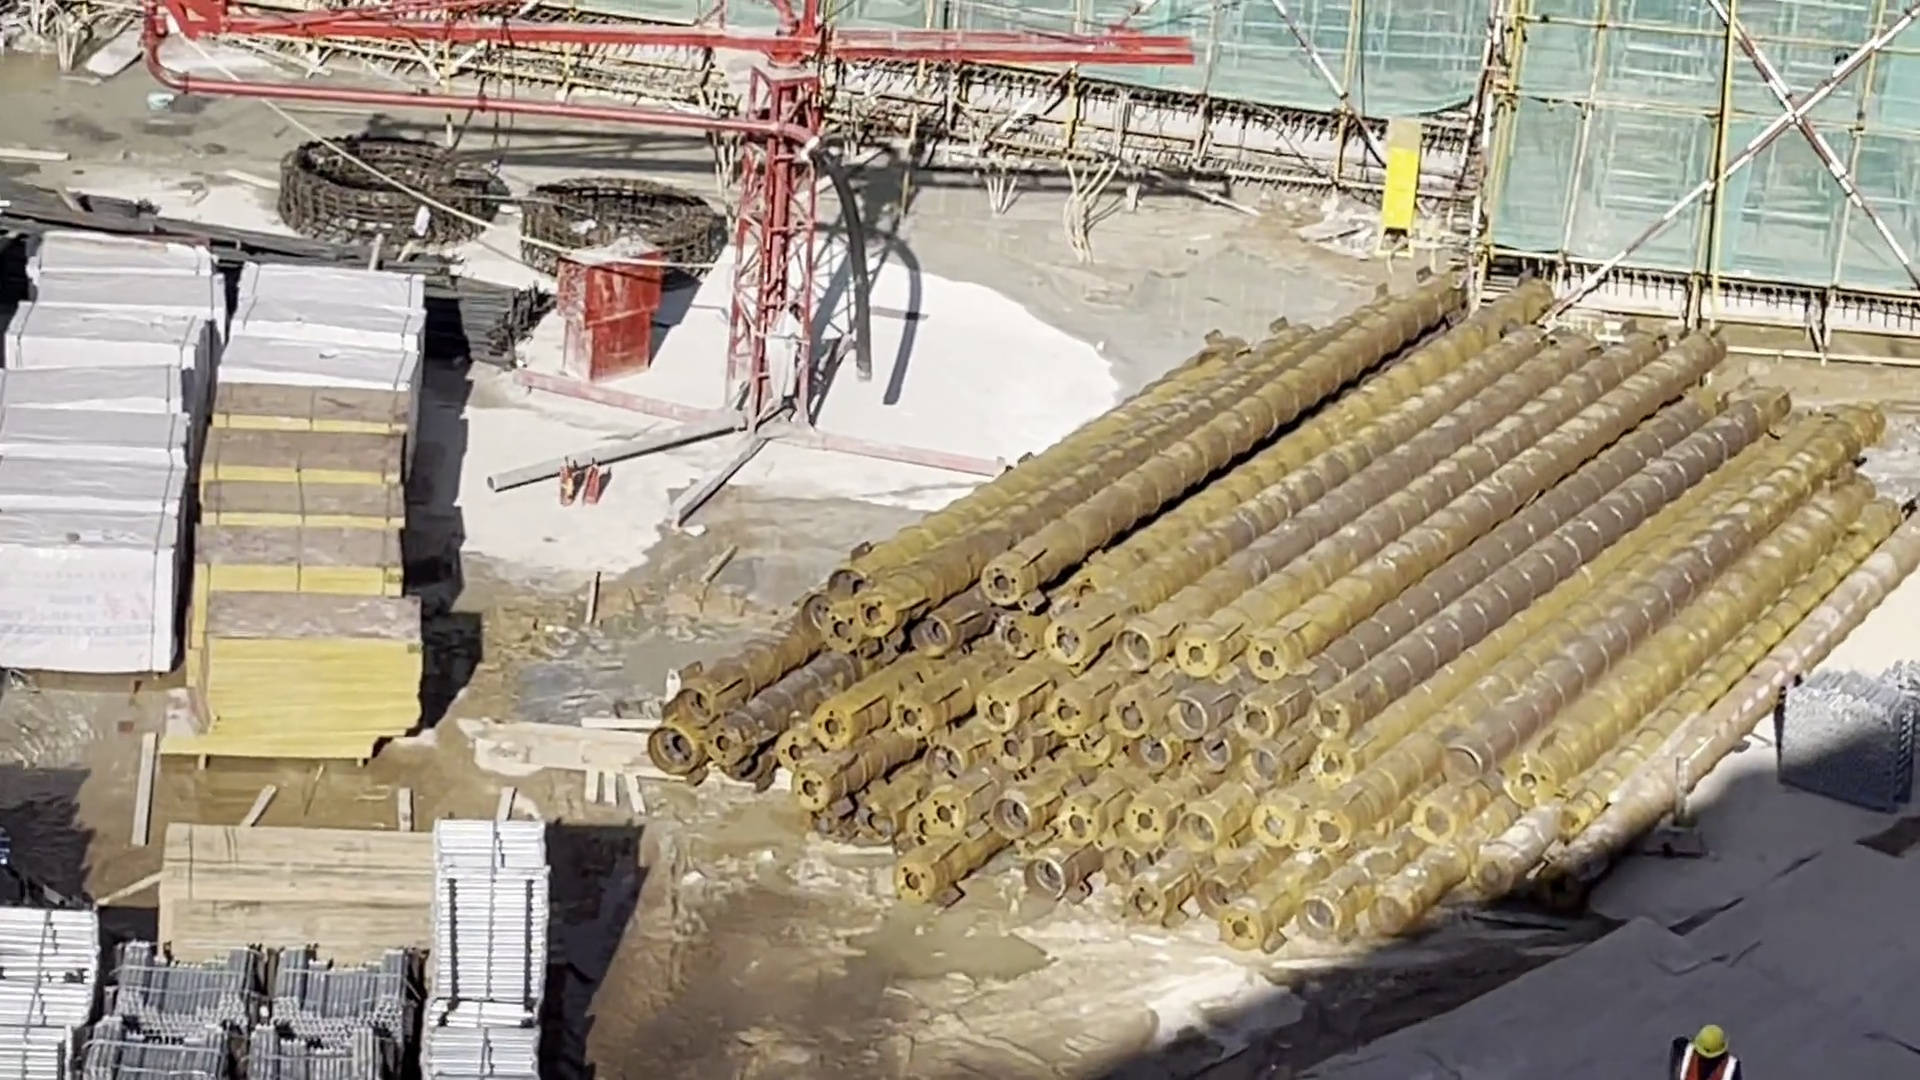board: (185, 384, 421, 764), (156, 827, 436, 960)
ebox: (1377, 123, 1419, 227)
helmet: (1698, 1030, 1728, 1058)
person: (1667, 1027, 1740, 1080)
rebar: (1, 195, 547, 354)
scaffold: (109, 945, 401, 1080), (427, 822, 550, 1074), (1789, 669, 1909, 810), (1, 915, 102, 1080)
vest: (1683, 1046, 1741, 1080)
